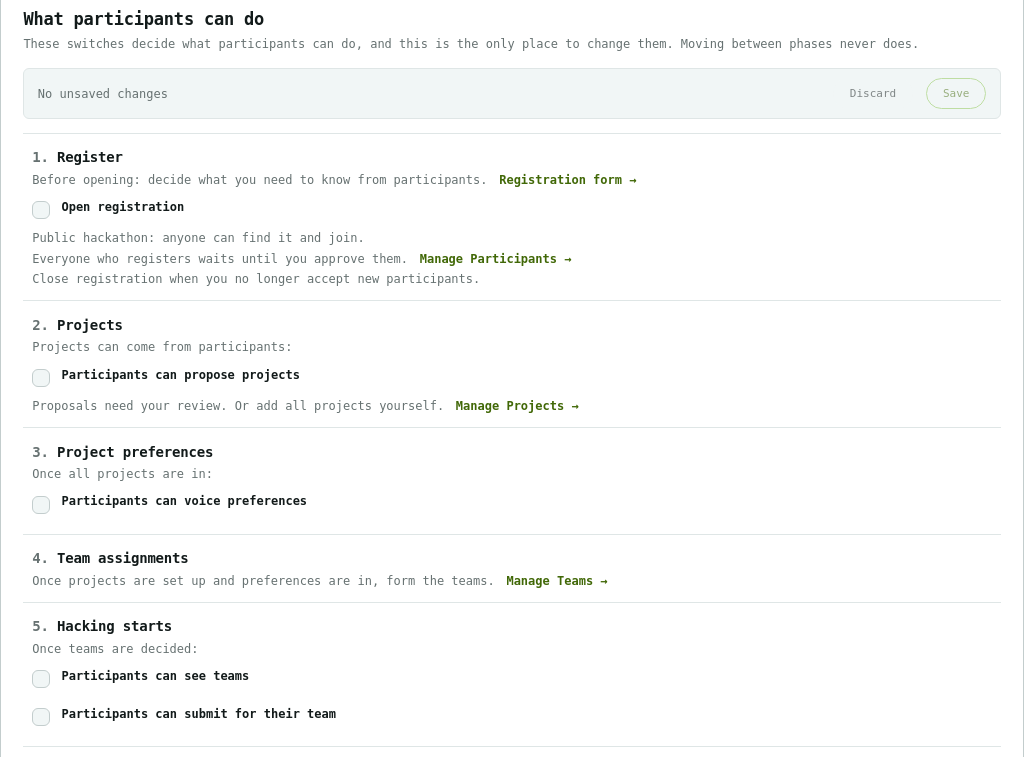
CapabilitiesPanel › unsaved changes › names what Save would write, by the organizer's labels
The width and height of the screenshot is (1024, 757).
What coordinates should you click on to do the following:
click the checkbox labelled "Open registration"
I would click on:
 (41, 210)
Its box is [32, 201, 50, 219].
(page scrolled)
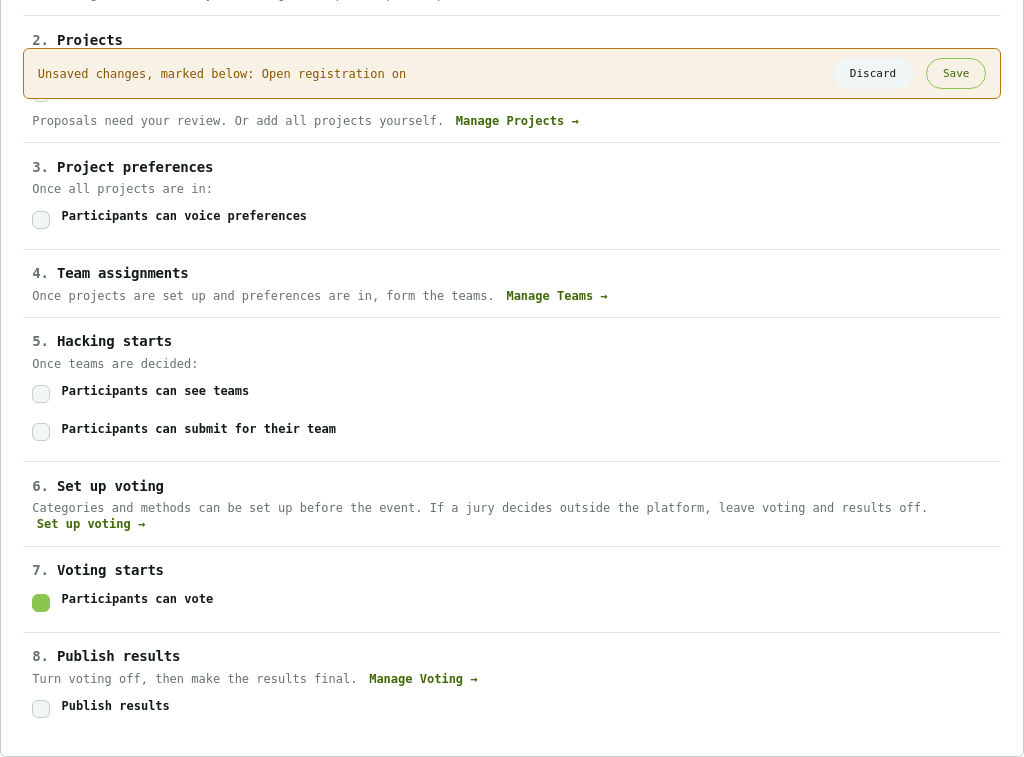
What coordinates should you click on to do the following:
click the checkbox labelled "Participants can vote"
I would click on:
 (41, 603)
Its box is [32, 594, 50, 612].
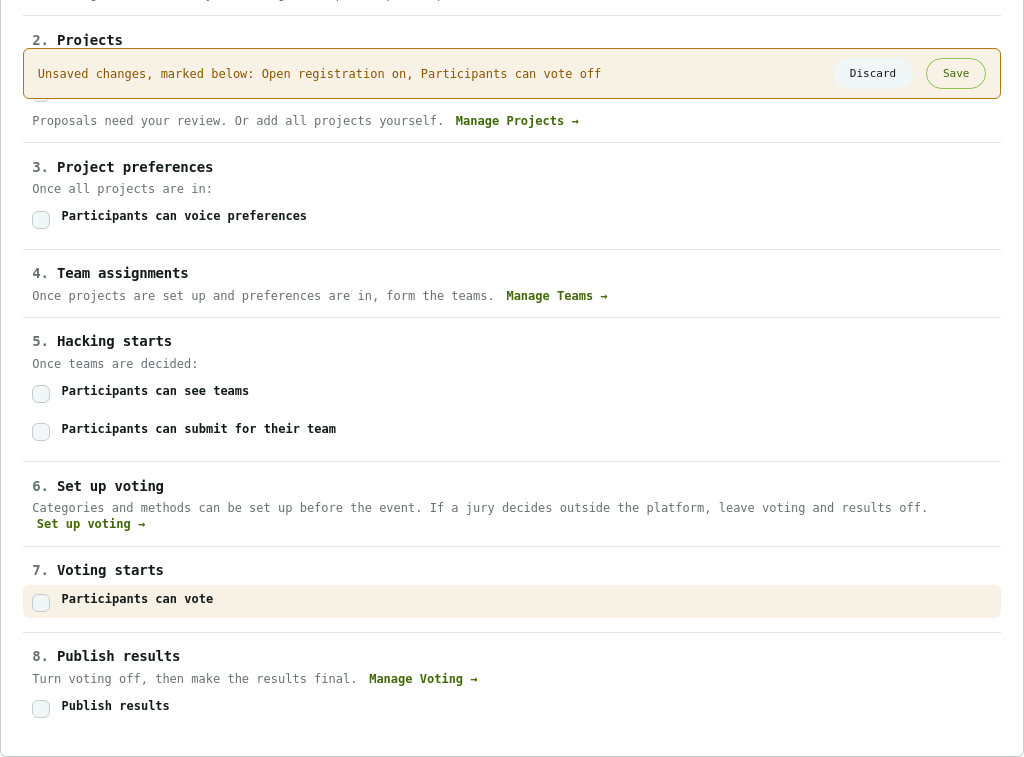
Now the button "Save" is enabled, box [926, 58, 986, 90]
Now the message shows "Unsaved changes, marked below: Open registration on, Participants can vote off", box [38, 67, 601, 81]
